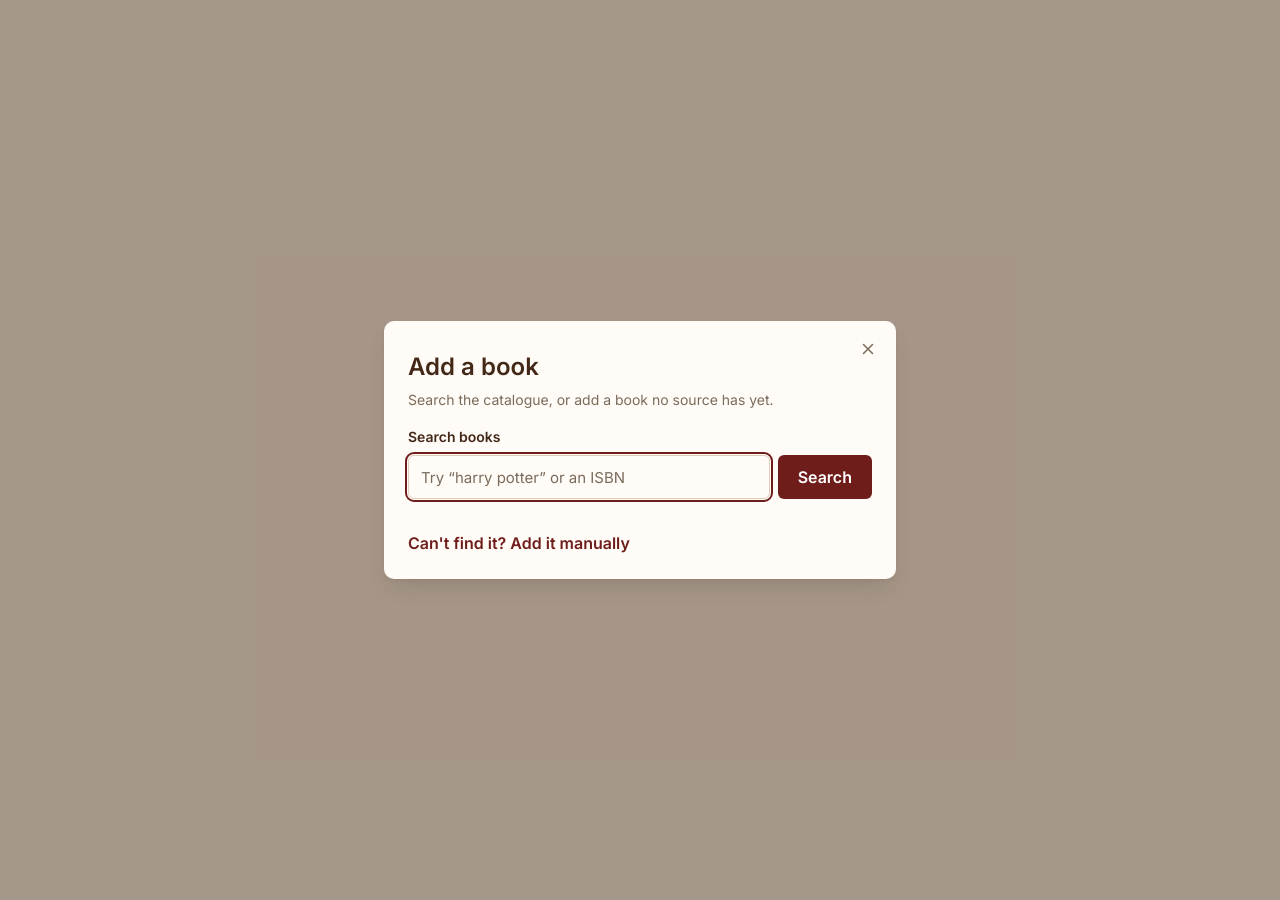
Test: AddBookModal › shows the server error when adding a result fails
The image size is (1280, 900).
In the search field with id "library-add-book-search": point(589, 477) [408, 455, 770, 499], type "Dune"
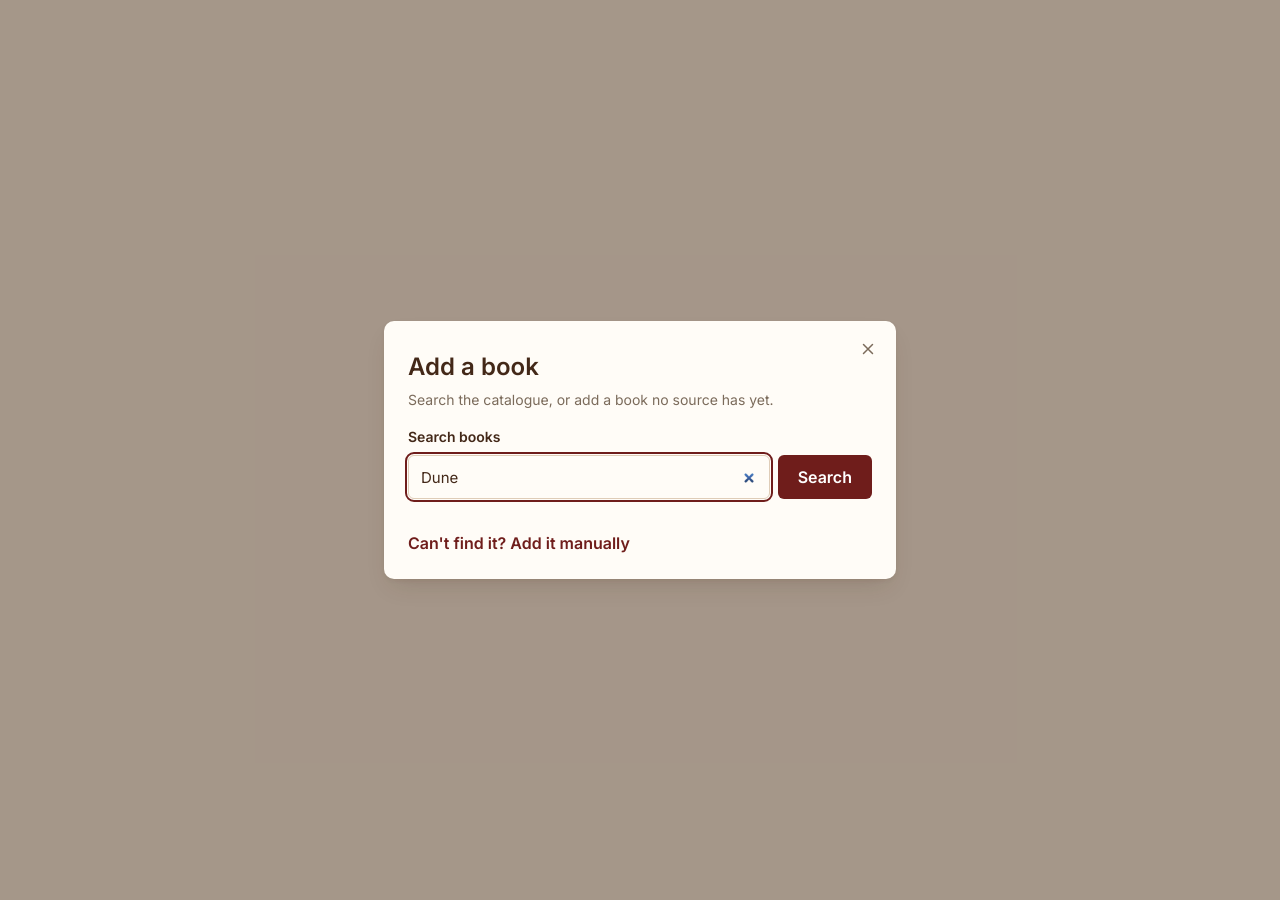
Submit the form, box [408, 426, 872, 499]
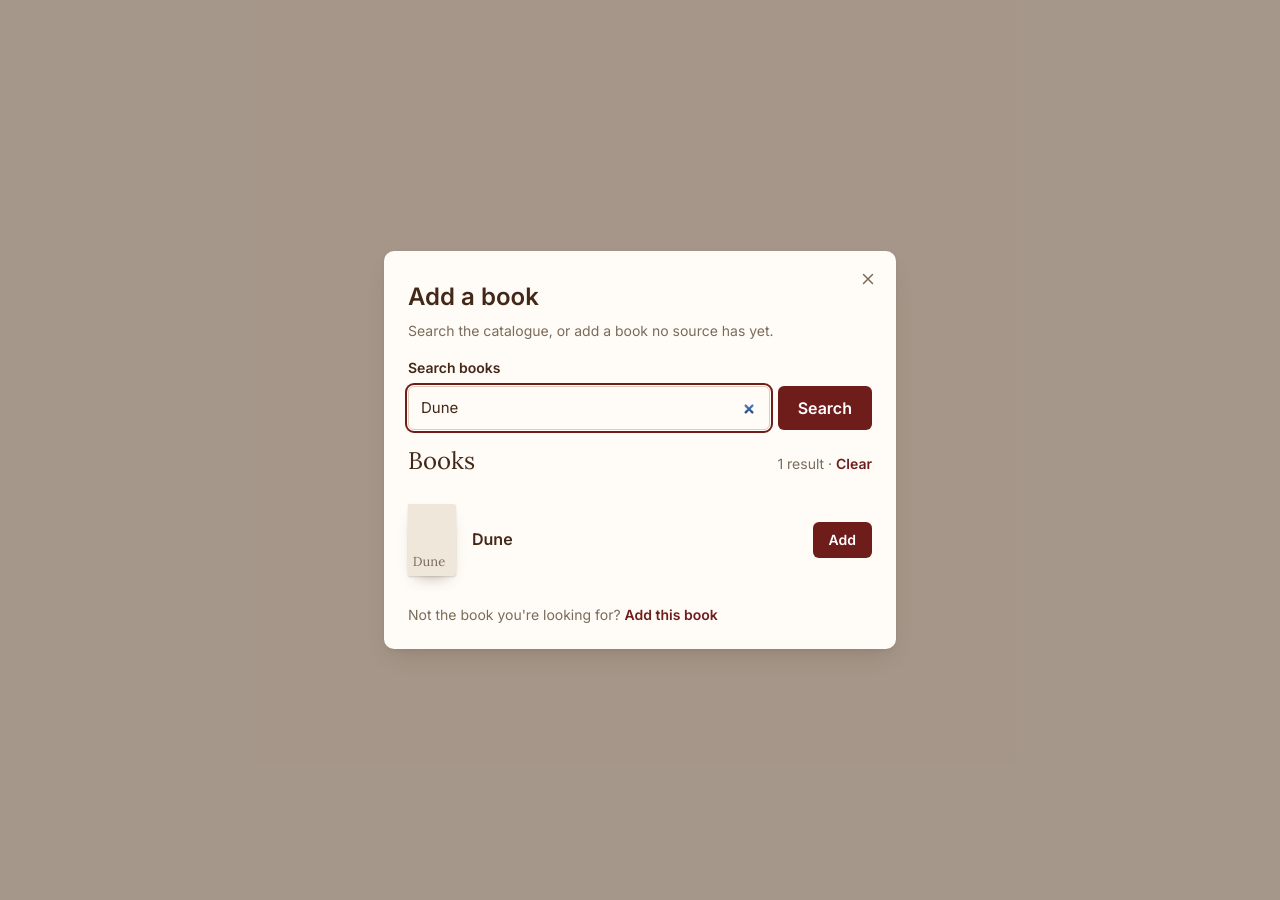
Click the button with class "result-add": point(842, 540) [812, 522, 872, 558]
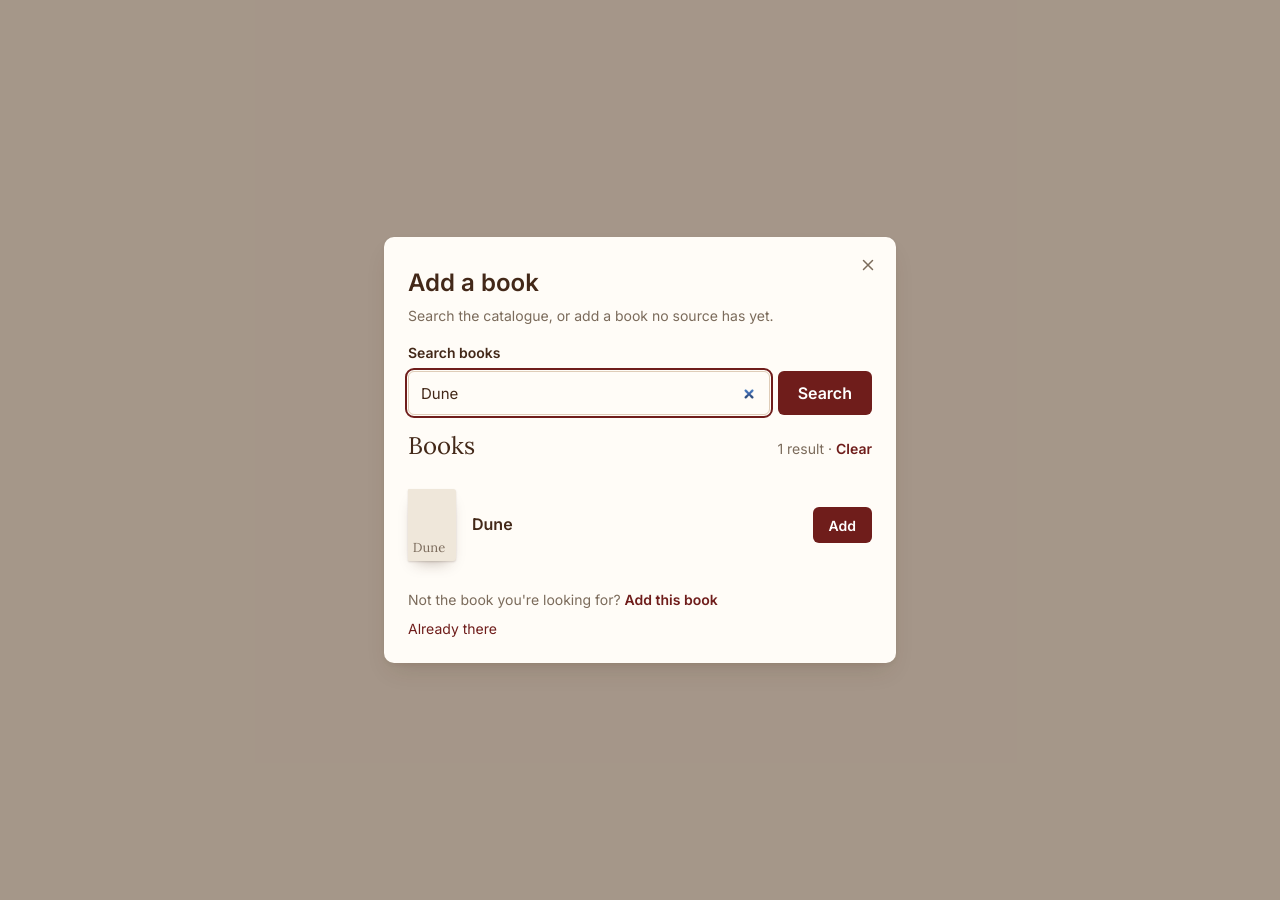
Expected: the message "Already there" is shown, [408, 620, 497, 637]
